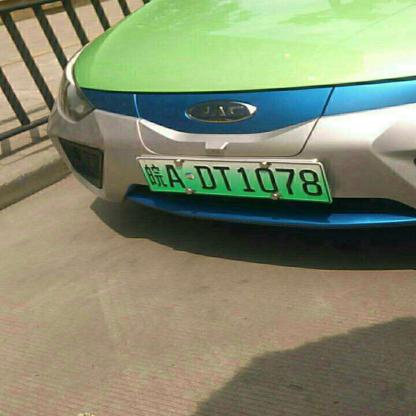lp: (136, 156, 332, 203)
